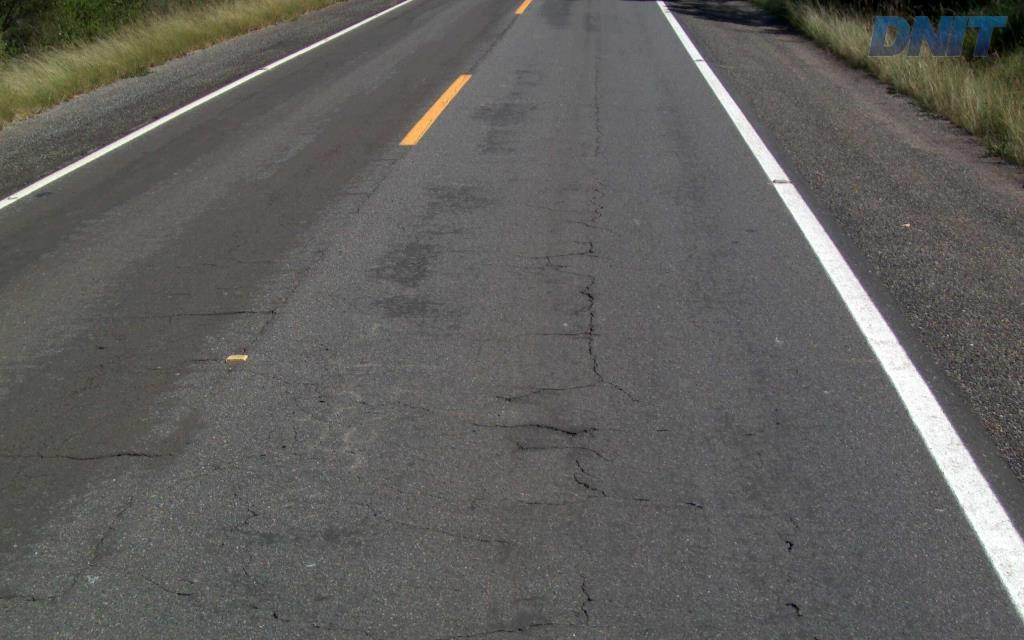crack: (510, 423, 599, 440)
